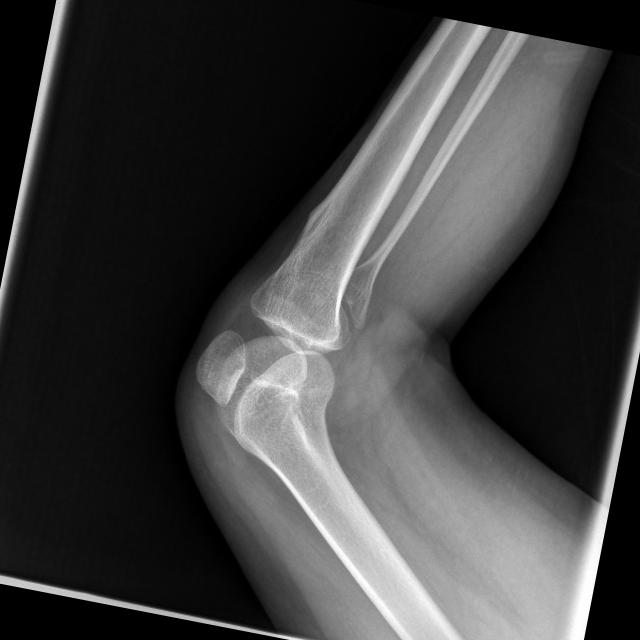Knee: (182, 266, 358, 454)
